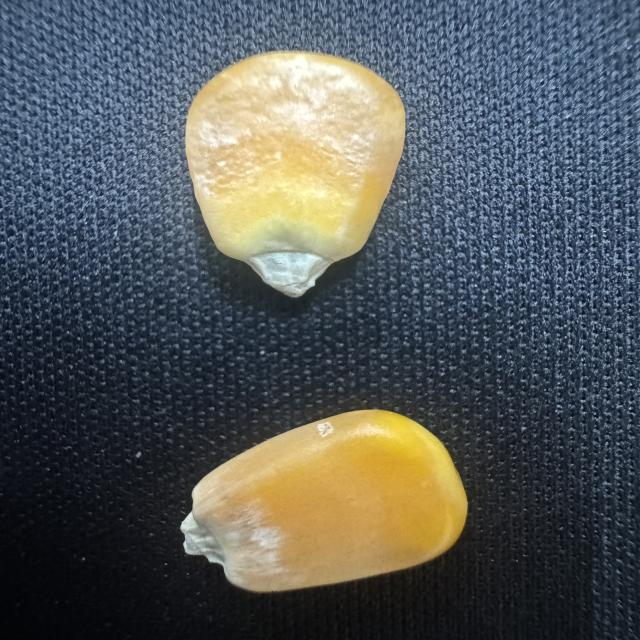Good-Seed: (178, 46, 416, 302), (173, 404, 477, 597)
